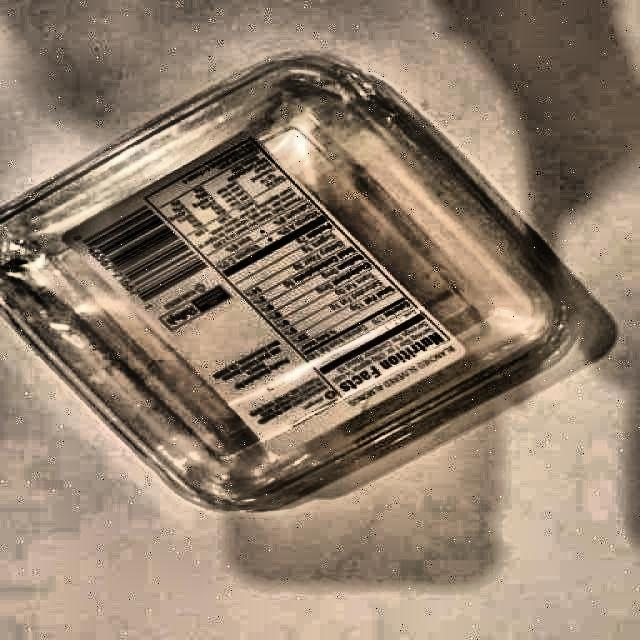plastic: (0, 56, 614, 509)
